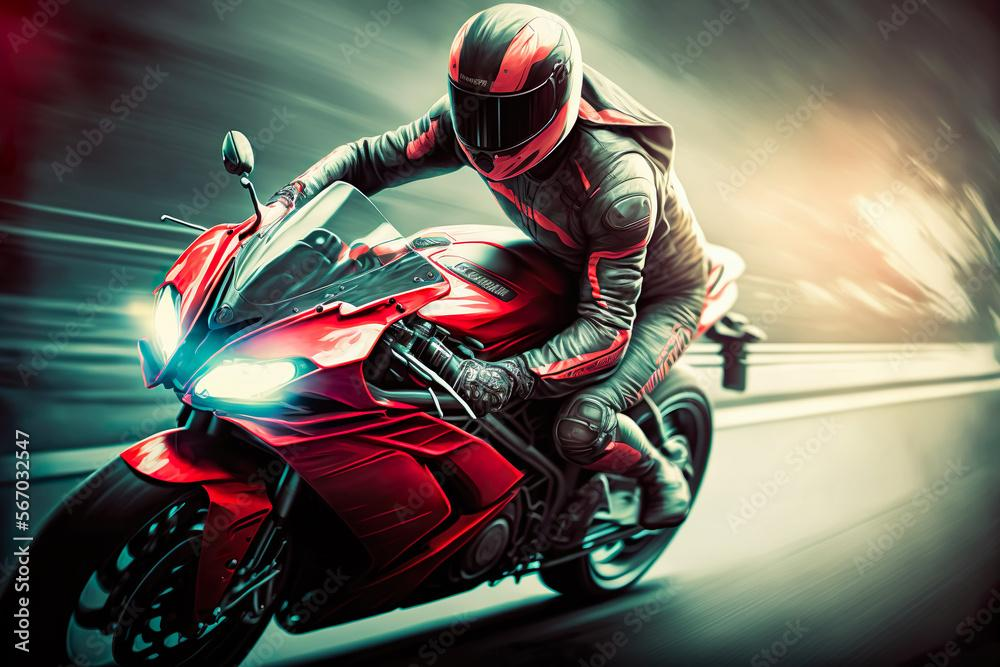helmet: (446, 2, 584, 183)
